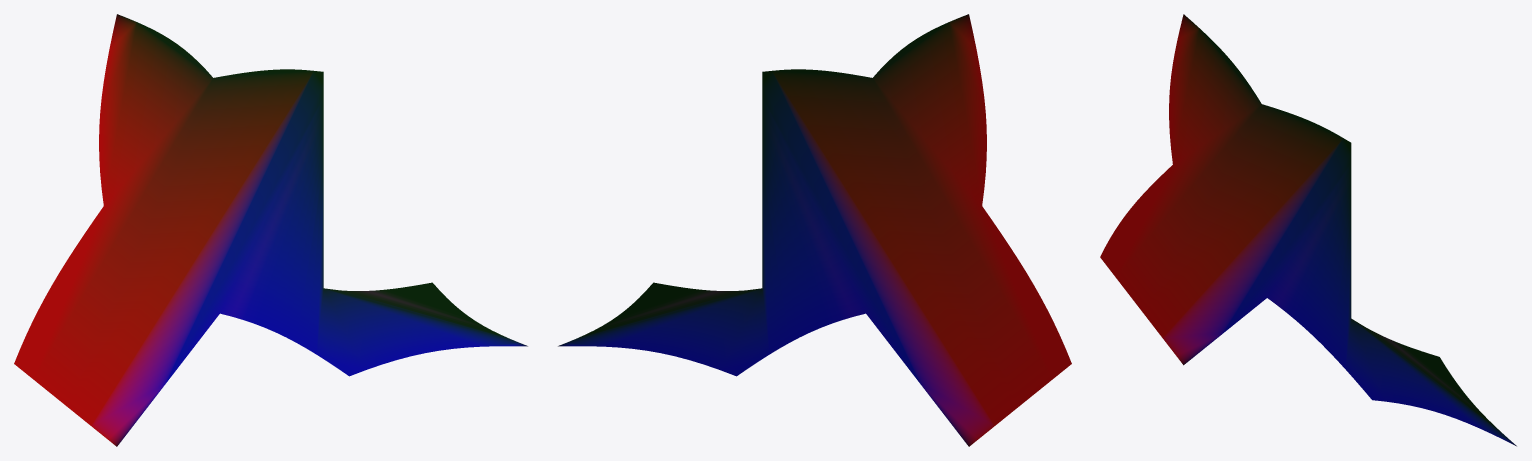
The model's file is flatfish2.glb.
3 renders of one model, left to right at view 1: azimuth 30°, elevation 25°; view 2: azimuth 150°, elevation 25°; view 3: azimuth 330°, elevation 25°, orthographic. The views are drawn at different scales.
Parts seen in each view (by area): view 1: Fish; view 2: Fish; view 3: Fish.
Boxes of the visible parts, x1,y1,x2,y2 form: Fish: [14, 14, 527, 446]; Fish: [558, 14, 1071, 446]; Fish: [1100, 14, 1516, 446].
Bounding box in the file's own units: 1.24 × 0.9999 × 0.
